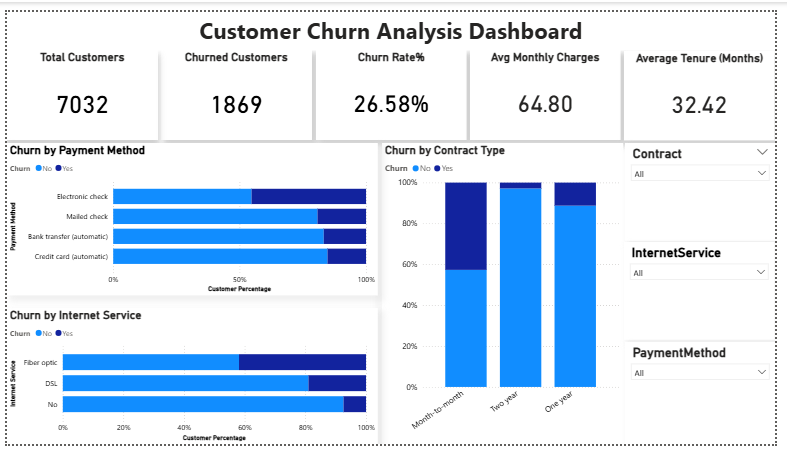

Layout of this report page (visuals, bound fields, positions):
{"tool":"powerbi","page":{"name":"Executive Dashboard","canvas":[1280,720],"ordinal":0},"visuals":[{"type":"card","title":"Total Customers","fields":{"Values":["Count(cleaned_telco_churn.customerID)"]},"box":[0,63.8,251,149.5],"z":0},{"type":"card","title":"Churned Customers","fields":{"Values":["Count(cleaned_telco_churn.customerID)"]},"box":[257.1,63.8,251,149.5],"z":1000},{"type":"card","title":"Churn Rate%","fields":{"Values":["cleaned_telco_churn.Churn Rate"]},"box":[514.3,63.8,251,149.5],"z":2000},{"type":"card","title":"Avg Monthly Charges","fields":{"Values":["Avg(cleaned_telco_churn.MonthlyCharges)"]},"box":[771.4,63.8,251,149.5],"z":3000},{"type":"card","title":"Average Tenure (Months)","fields":{"Values":["Avg(cleaned_telco_churn.tenure)"]},"box":[1027.7,64.2,251,149.4],"z":4000},{"type":"hundredPercentStackedColumnChart","title":"Churn by Contract Type","fields":{"Category":["cleaned_telco_churn.Contract"],"Series":["cleaned_telco_churn.Churn"],"Y":["CountNonNull(cleaned_telco_churn.customerID)"]},"box":[624.4,218.1,401.8,501.9],"z":5000},{"type":"hundredPercentStackedBarChart","title":"Churn by Internet Service","fields":{"Category":["cleaned_telco_churn.InternetService"],"Series":["cleaned_telco_churn.Churn"],"Y":["CountNonNull(cleaned_telco_churn.customerID)"]},"box":[0,492.9,618.4,227.1],"z":6000},{"type":"hundredPercentStackedBarChart","title":"Churn by Payment Method","fields":{"Y":["CountNonNull(cleaned_telco_churn.customerID)"],"Category":["cleaned_telco_churn.PaymentMethod"],"Series":["cleaned_telco_churn.Churn"]},"box":[0,218.1,618.4,253.9],"z":7000},{"type":"slicer","fields":{"Values":["cleaned_telco_churn.Contract"]},"box":[1029.2,218.1,251,163],"z":8000},{"type":"slicer","fields":{"Values":["cleaned_telco_churn.InternetService"]},"box":[1029,383.9,251,162.8],"z":9000},{"type":"slicer","fields":{"Values":["cleaned_telco_churn.PaymentMethod"]},"box":[1029.2,549.7,251,170.3],"z":10000},{"type":"textbox","box":[0,0,1280,63.8],"z":12000}]}

Visuals, with their boxes in screenshot pixels (x1, y1, x2, y2), scaled from the page's 1280x720 canvas onto the 787x450 screenshot:
"Total Customers" card: 0,40,154,133
"Churned Customers" card: 158,40,312,133
"Churn Rate%" card: 316,40,471,133
"Avg Monthly Charges" card: 474,40,629,133
"Average Tenure (Months)" card: 632,40,786,134
"Churn by Contract Type" hundredPercentStackedColumnChart: 384,136,631,449
"Churn by Internet Service" hundredPercentStackedBarChart: 0,308,380,449
"Churn by Payment Method" hundredPercentStackedBarChart: 0,136,380,295
slicer - cleaned_telco_churn.Contract: 633,136,786,238
slicer - cleaned_telco_churn.InternetService: 633,240,786,342
slicer - cleaned_telco_churn.PaymentMethod: 633,344,786,449
textbox: 0,0,786,40
